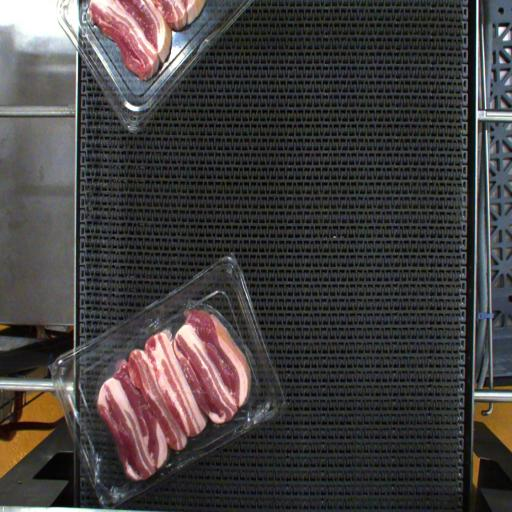unsealed: (94, 319, 252, 447)
